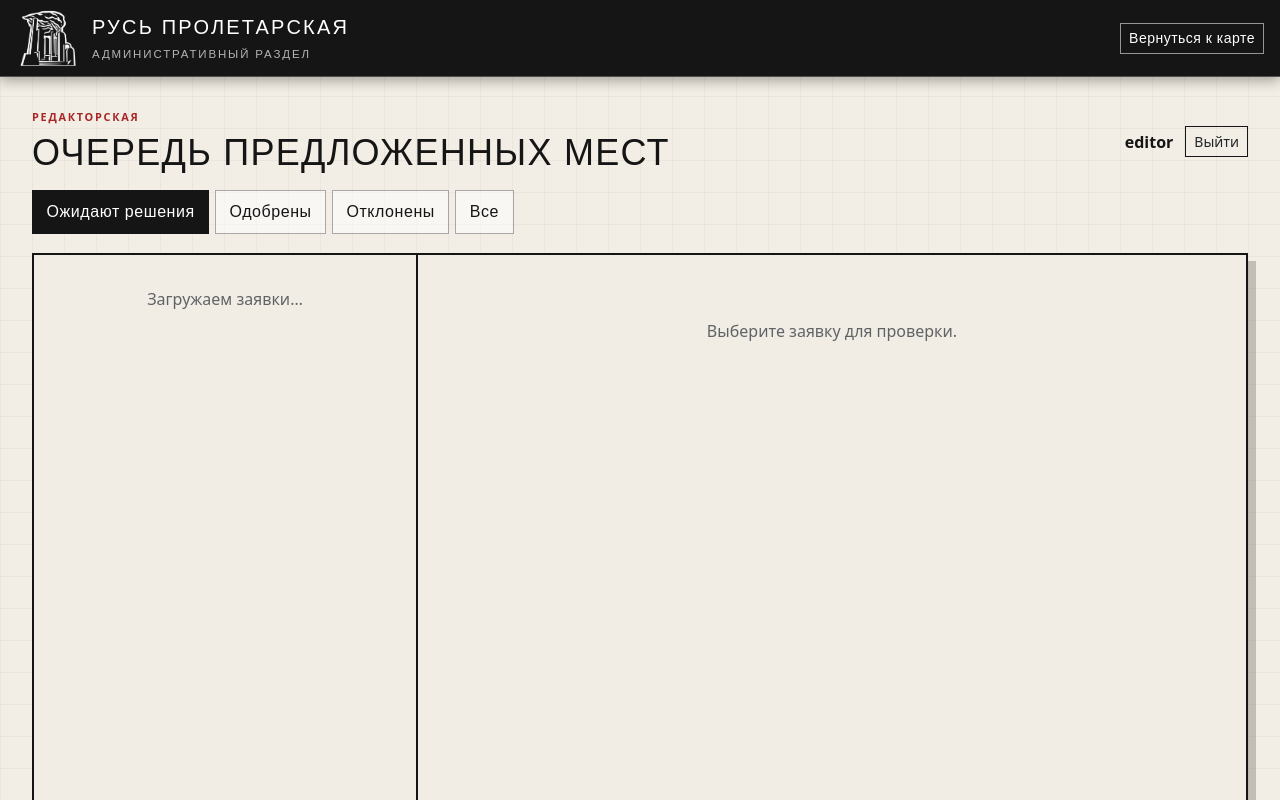
Test: AdminApp › logs out and returns to the login form
Click the button "Выйти".
click(1217, 142)  # box [1185,126,1248,157]
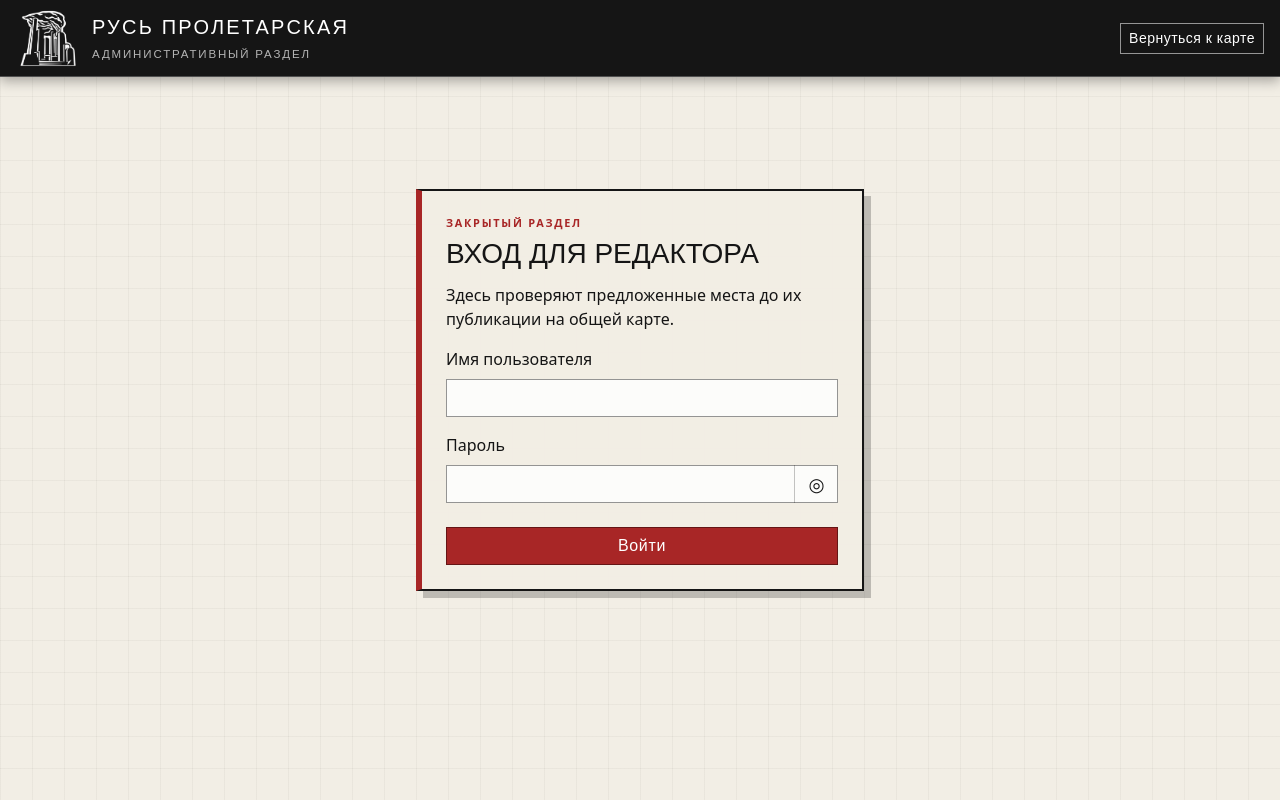
Expected: the heading "Вход для редактора" is shown, [446,238,759,269]
